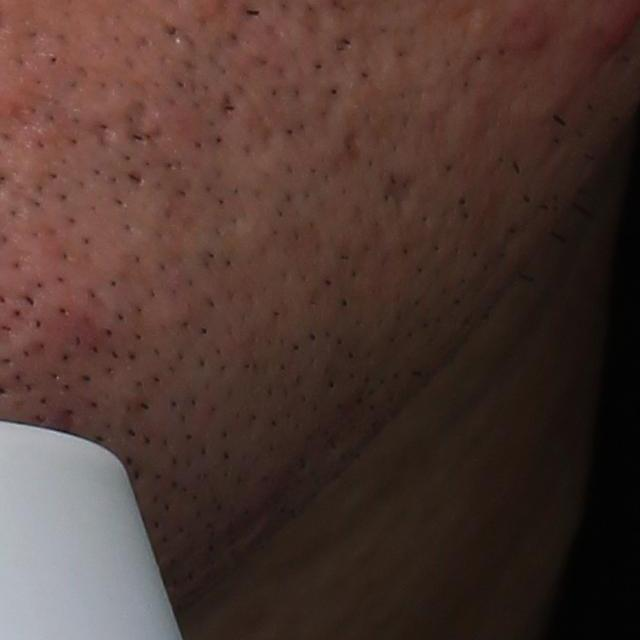atrophic_scar: (120, 90, 168, 158), (383, 165, 414, 221)
papule: (501, 18, 565, 60)
